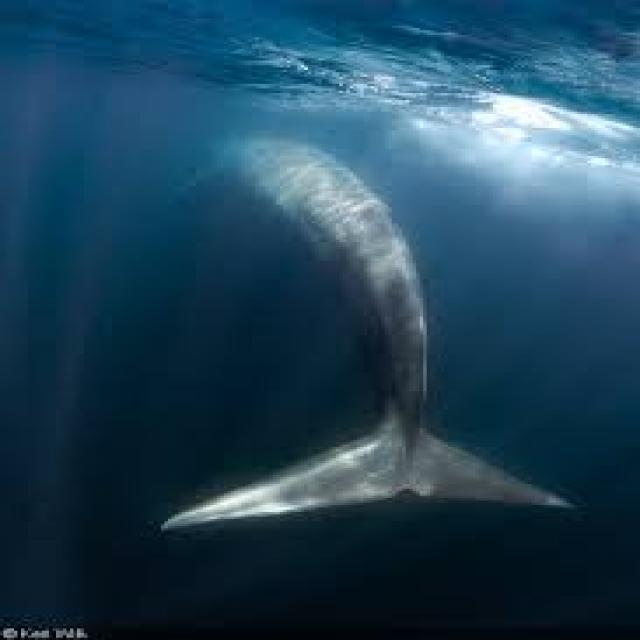blue_whale: (115, 70, 584, 570)
